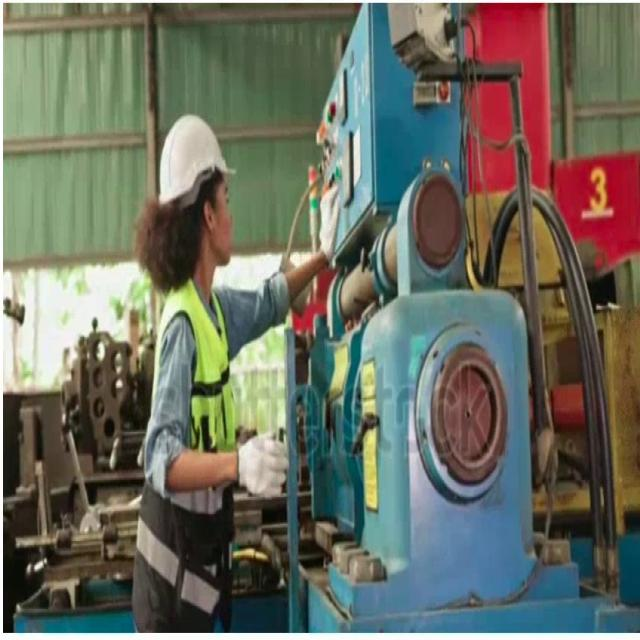gloved: (236, 429, 289, 498), (318, 182, 340, 264)
